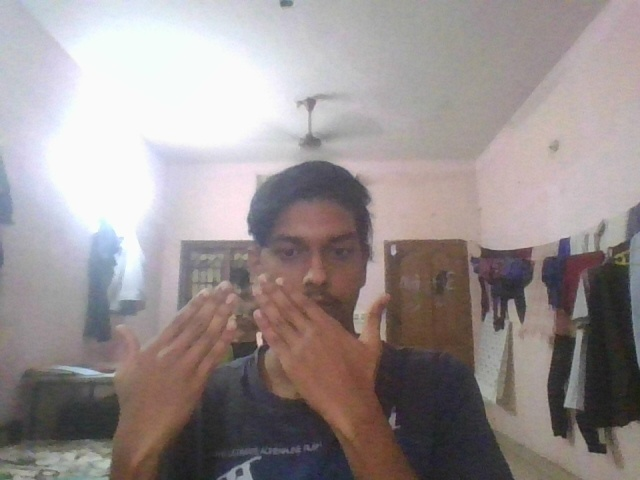thankyou: (107, 272, 393, 413)
